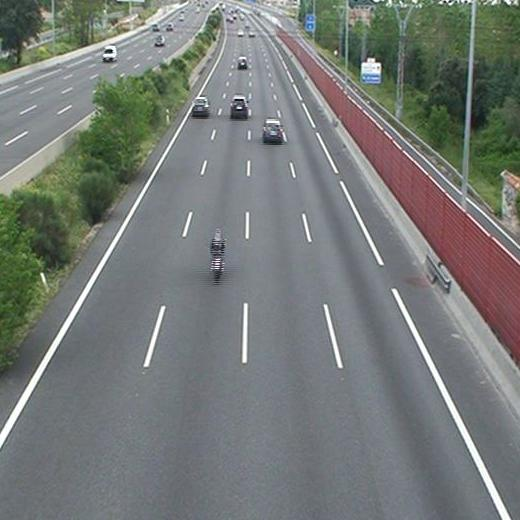car: (263, 119, 282, 141), (230, 97, 247, 118), (193, 98, 209, 116), (237, 56, 247, 68)
motorcycle: (210, 229, 226, 282)
